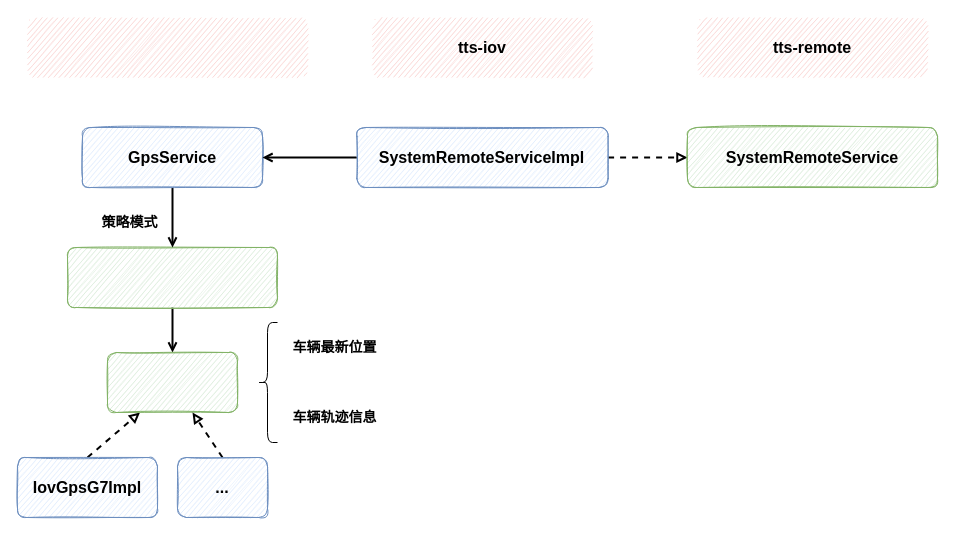
Image size: 955x535. Some labels were removed from this diagram. Here are the shapes that lost their labels. From the top down, the centre of each, then its label:
At [167,47]: "tts-gps".
At [172,277]: "Map<IovType, IovGps>".
At [172,382]: "IovGps".
